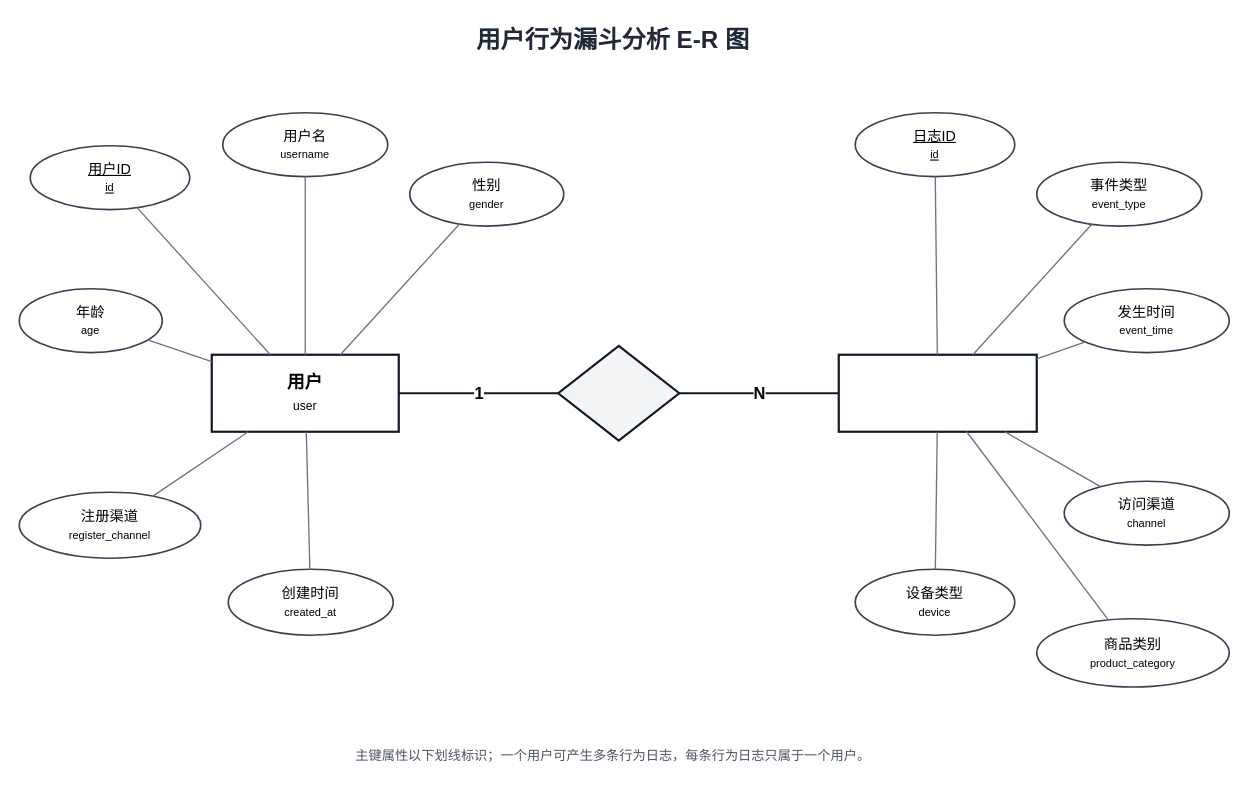
The diagram is 1250 pixels wide and 791 high, and some of its shapes have lost their labels. The shapes that lost their labels are listed below. From the top down, each one's centre as x and y in pixels, then its label:
pixel 618 392: 产生
pixel 937 392: 行为日志 user_log
